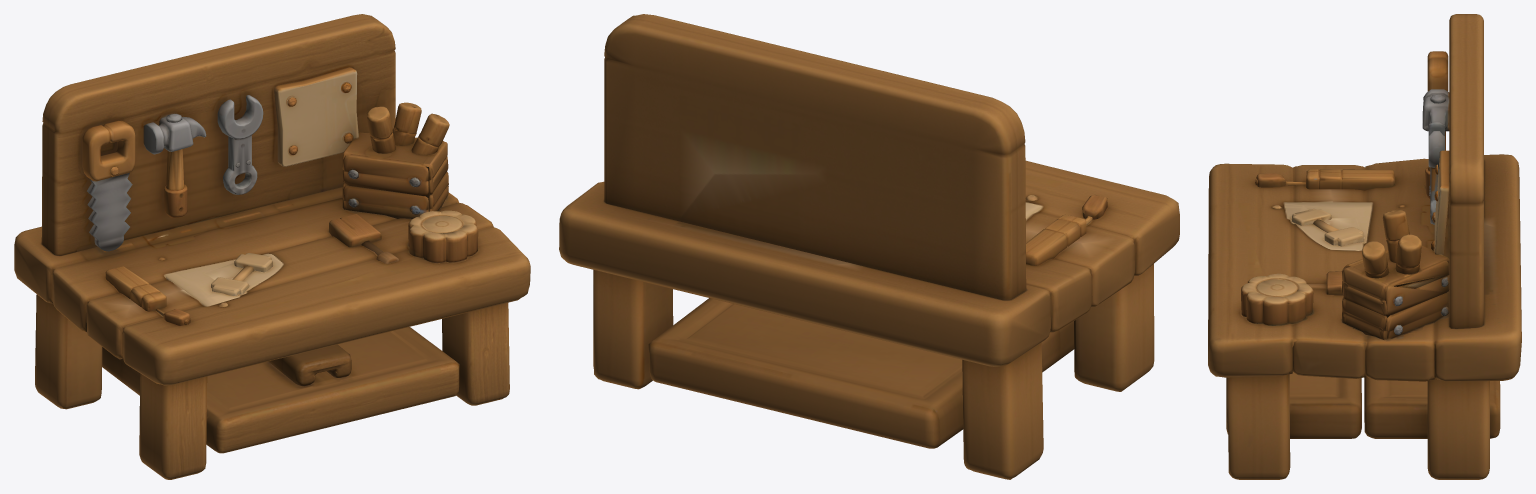
The model's file is tripo_convert_87fcd16f-d46a-4359-9f46-a6b1a9d30ed4.fbx.
The picture shows the model from 3 angles, left to right: view 1: azimuth 30°, elevation 25°; view 2: azimuth 150°, elevation 25°; view 3: azimuth 270°, elevation 25°; orthographic projection. The views are drawn at different scales.
Parts seen in each view (by area): view 1: tripo_node_87fcd16f; view 2: tripo_node_87fcd16f; view 3: tripo_node_87fcd16f.
Boxes of the visible parts, bbox=[...] form: tripo_node_87fcd16f: bbox=[14, 14, 530, 479]; tripo_node_87fcd16f: bbox=[559, 14, 1179, 479]; tripo_node_87fcd16f: bbox=[1208, 14, 1521, 479].
Size of the model in its own units: 0.998 by 0.7637 by 0.709.
Materials: 1 (1 with a texture image).
